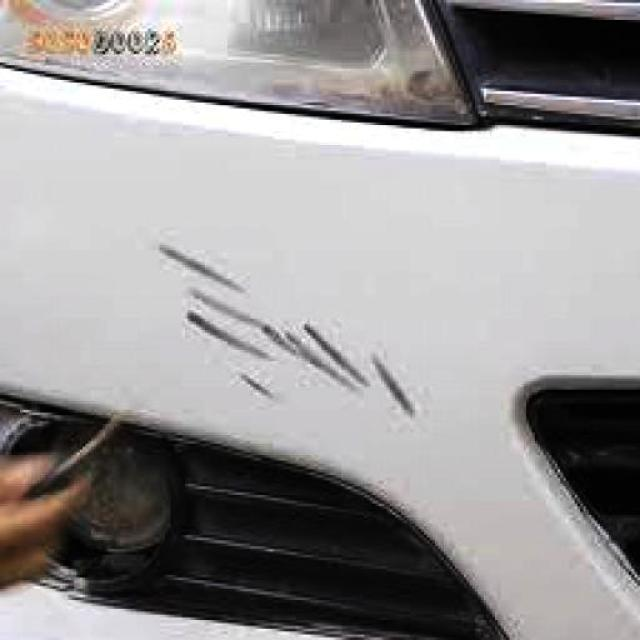car damage: (154, 245, 424, 424)
